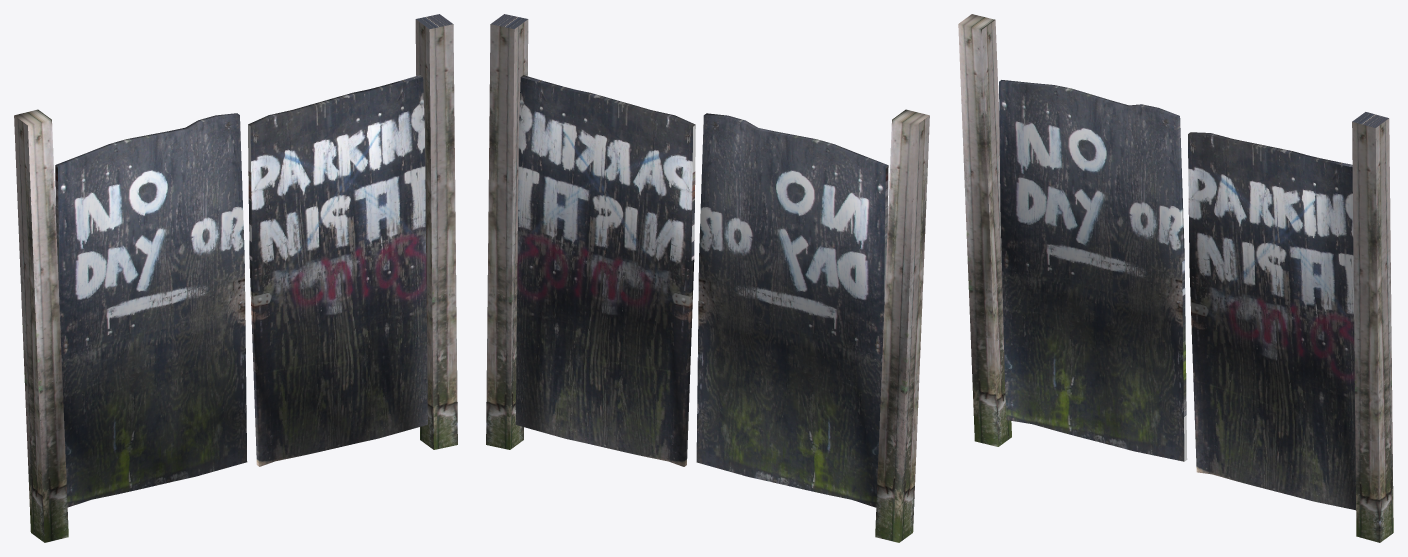
The model's file is worn_fence_gate.obj.
3 renders of one model, left to right at view 1: azimuth 30°, elevation 25°; view 2: azimuth 150°, elevation 25°; view 3: azimuth 330°, elevation 25°, orthographic.
Parts seen in each view (by area): view 1: def_surf_mat; view 2: def_surf_mat; view 3: def_surf_mat.
Part boxes in pixels (x1,y1,x2,y2): def_surf_mat: [14, 14, 457, 542]; def_surf_mat: [486, 14, 929, 542]; def_surf_mat: [958, 14, 1393, 542].
Bounding box in the file's own units: 117 × 110 × 6.55.
1 material, 1 textured.
